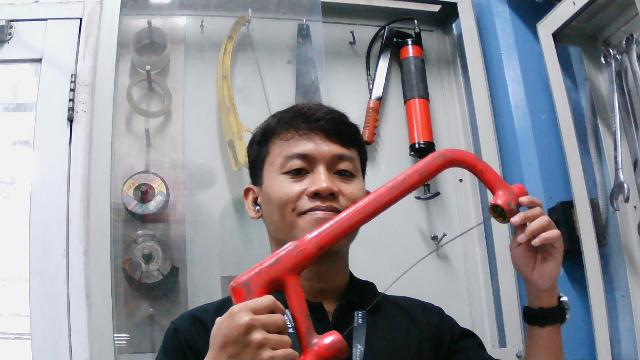gergaji_besi: (229, 145, 531, 350)
